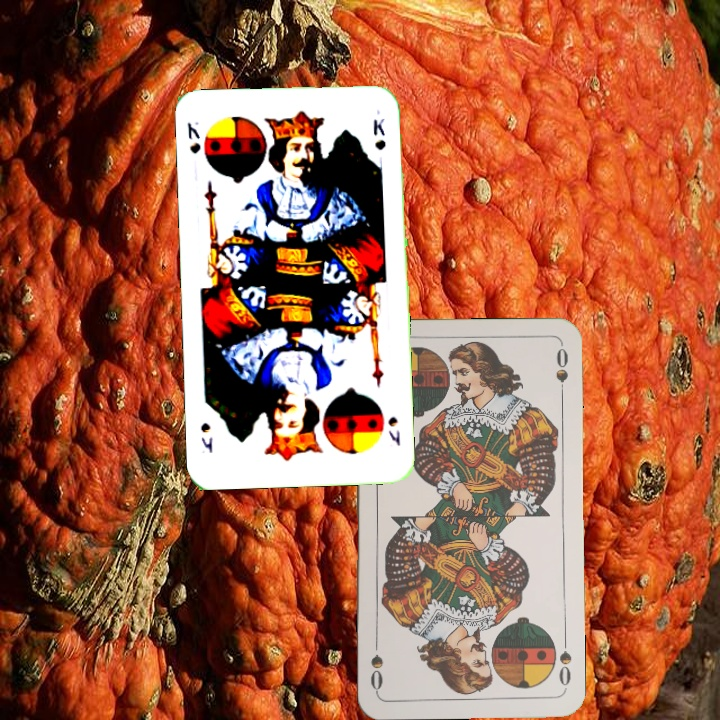SK: (183, 118, 203, 156), (384, 412, 403, 448)
SO: (555, 633, 574, 692)
